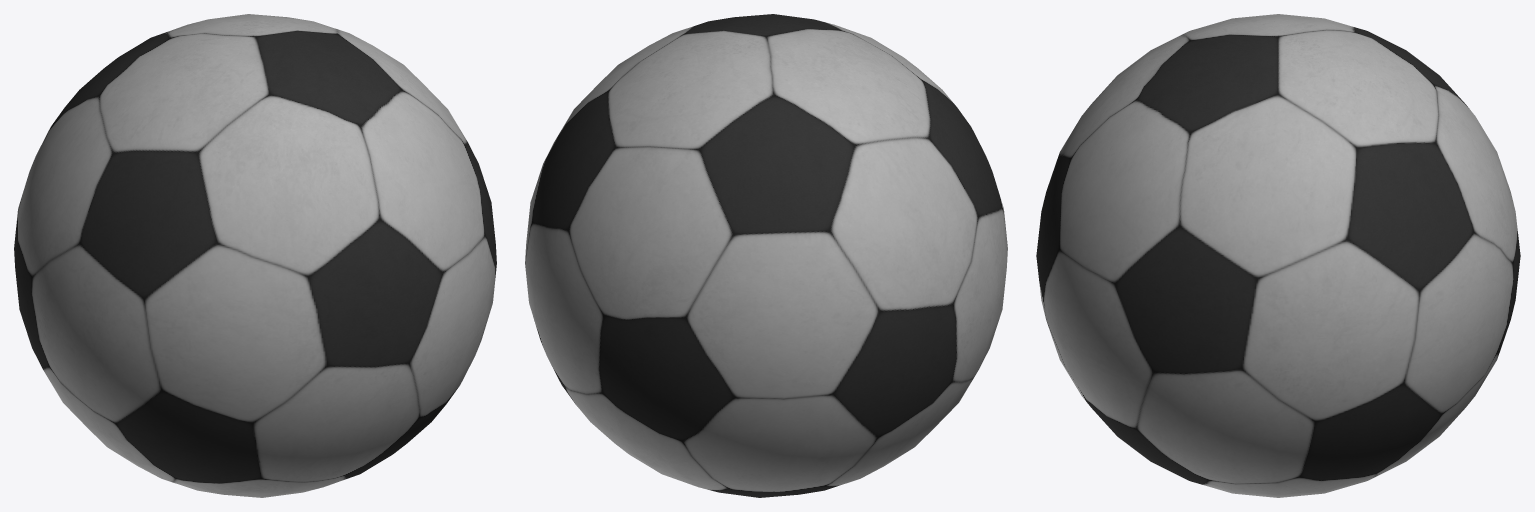
The model's file is SoccerBall.fbx.
3 renders of one model, left to right at view 1: azimuth 30°, elevation 25°; view 2: azimuth 150°, elevation 25°; view 3: azimuth 270°, elevation 25°, orthographic.
Parts seen in each view (by area): view 1: Soccer Ball; view 2: Soccer Ball; view 3: Soccer Ball.
Part boxes in pixels (box(x1,y1,x2,y2)): Soccer Ball: box(14, 14, 496, 497); Soccer Ball: box(525, 14, 1007, 497); Soccer Ball: box(1036, 14, 1520, 497).
Bounding box in the file's own units: 0.2165 × 0.2165 × 0.2165.
